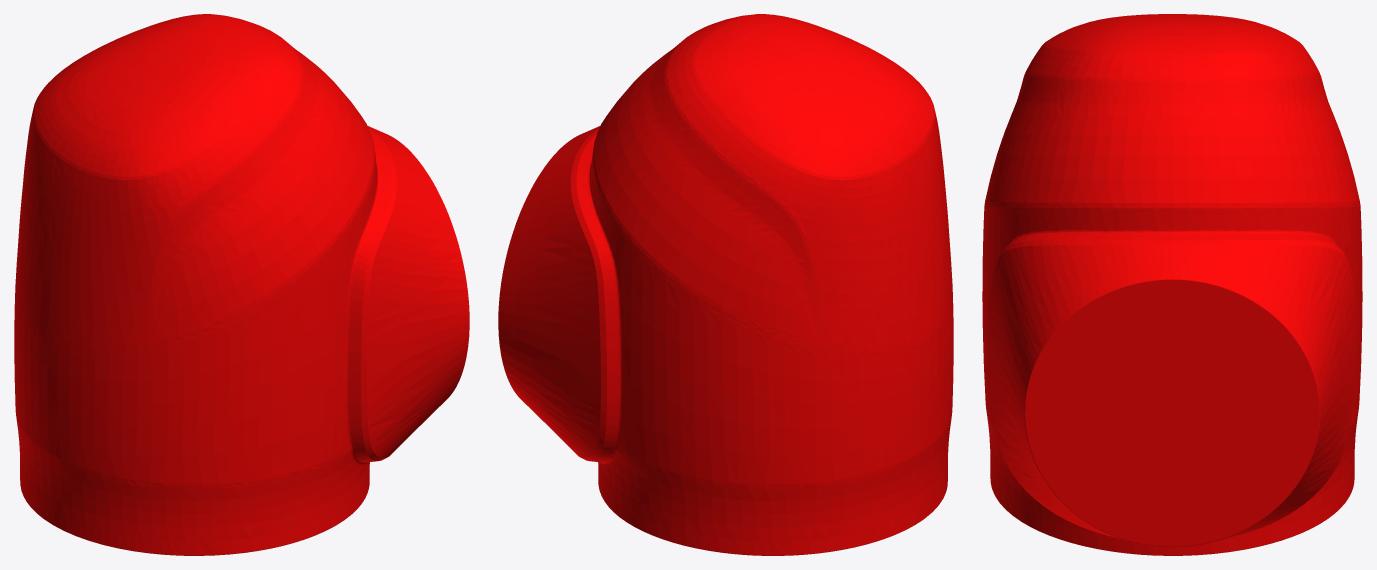
3 views of the same model, side by side, from view 1: azimuth 30°, elevation 25°; view 2: azimuth 150°, elevation 25°; view 3: azimuth 270°, elevation 25° (orthographic). The views are drawn at different scales.
Parts seen in each view (by area): view 1: H2515_2_0; view 2: H2515_2_0; view 3: H2515_2_0.
Boxes of the visible parts, x1,y1,x2,y2 form: H2515_2_0: [14, 14, 469, 555]; H2515_2_0: [498, 14, 953, 555]; H2515_2_0: [982, 14, 1362, 555].
Bounding box in the file's own units: 243 × 213 × 283.
